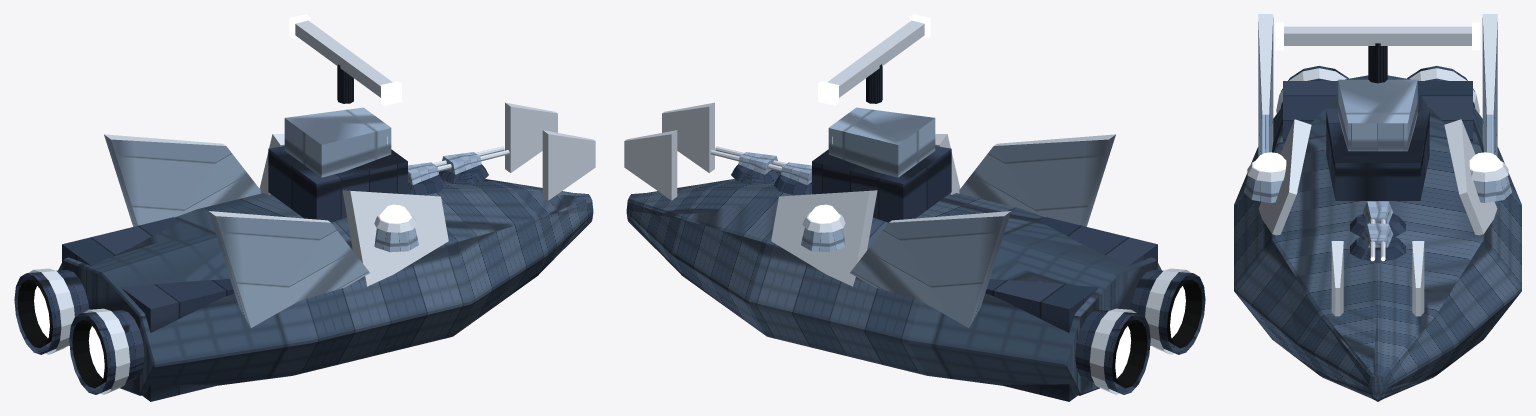
File: command_ship.glb
The picture shows the model from 3 angles, left to right: view 1: azimuth 30°, elevation 25°; view 2: azimuth 150°, elevation 25°; view 3: azimuth 270°, elevation 25°; orthographic projection. The views are drawn at different scales.
Parts seen in each view (by area): view 1: hull_body, sensor_tower, engine_block, weapon_turrets, shield_domes; view 2: hull_body, sensor_tower, engine_block, weapon_turrets, shield_domes; view 3: hull_body, sensor_tower, engine_block, shield_domes, weapon_turrets.
Boxes of the visible parts, x1,y1,x2,y2 form: hull_body: (58, 102, 595, 395); sensor_tower: (259, 14, 448, 286); engine_block: (14, 217, 234, 401); weapon_turrets: (408, 146, 509, 195); shield_domes: (374, 204, 418, 252); hull_body: (624, 102, 1161, 395); sensor_tower: (771, 14, 960, 286); engine_block: (985, 217, 1205, 401); weapon_turrets: (710, 146, 811, 195); shield_domes: (801, 204, 845, 252); hull_body: (1234, 14, 1521, 401); sensor_tower: (1258, 22, 1497, 235); engine_block: (1276, 66, 1479, 141); shield_domes: (1244, 152, 1511, 202); weapon_turrets: (1350, 201, 1405, 261).
Size of the model in its own units: 56 by 28.41 by 24.61.
Materials: 1 (1 with a texture image).
